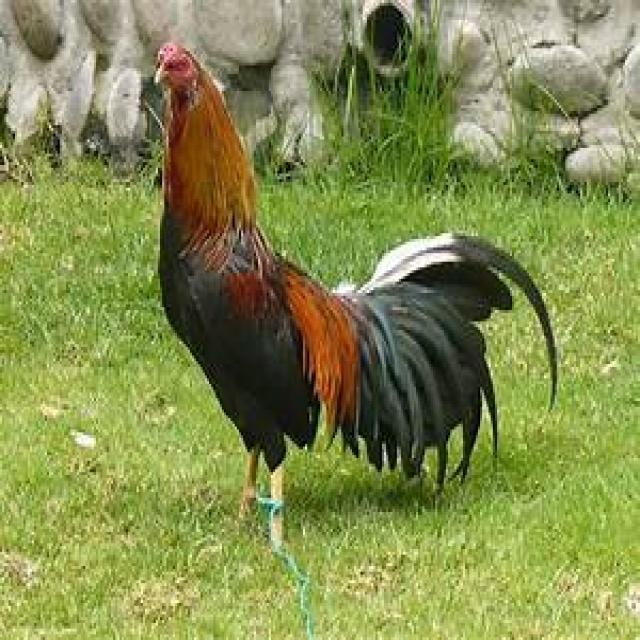hen: (154, 43, 559, 552)
